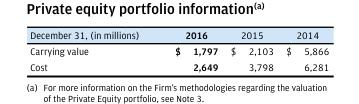table: (29, 28, 328, 72)
table column: (29, 28, 156, 72), (156, 28, 223, 72), (223, 28, 279, 72), (279, 28, 328, 72)
table column header: (29, 28, 328, 42)
table row: (29, 42, 328, 58), (29, 28, 328, 42), (29, 58, 328, 72)
